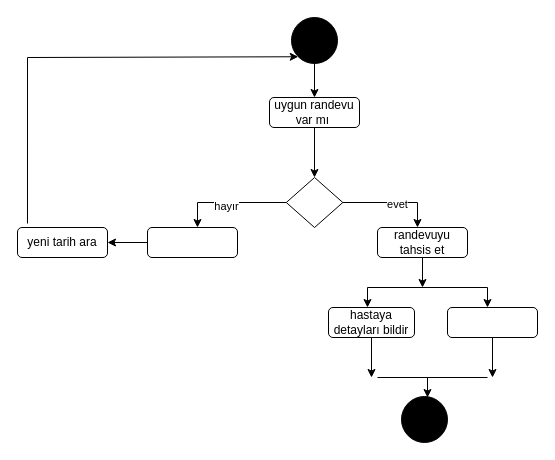
The diagram is 555 pixels wide and 460 high, and some of its shapes have lost their labels. The centre of each missing label's shape, as x and y in pixels:
güncel bilgileri kaydet: pixel 492 322
yeni tarih sor: pixel 192 242
